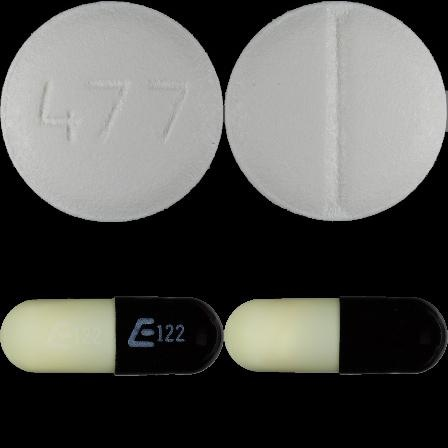21695-298: (0, 0, 224, 224)
